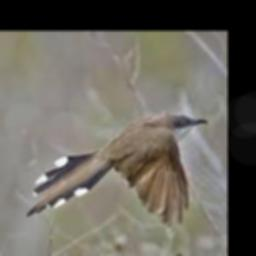Cuckoo: (26, 111, 208, 225)
